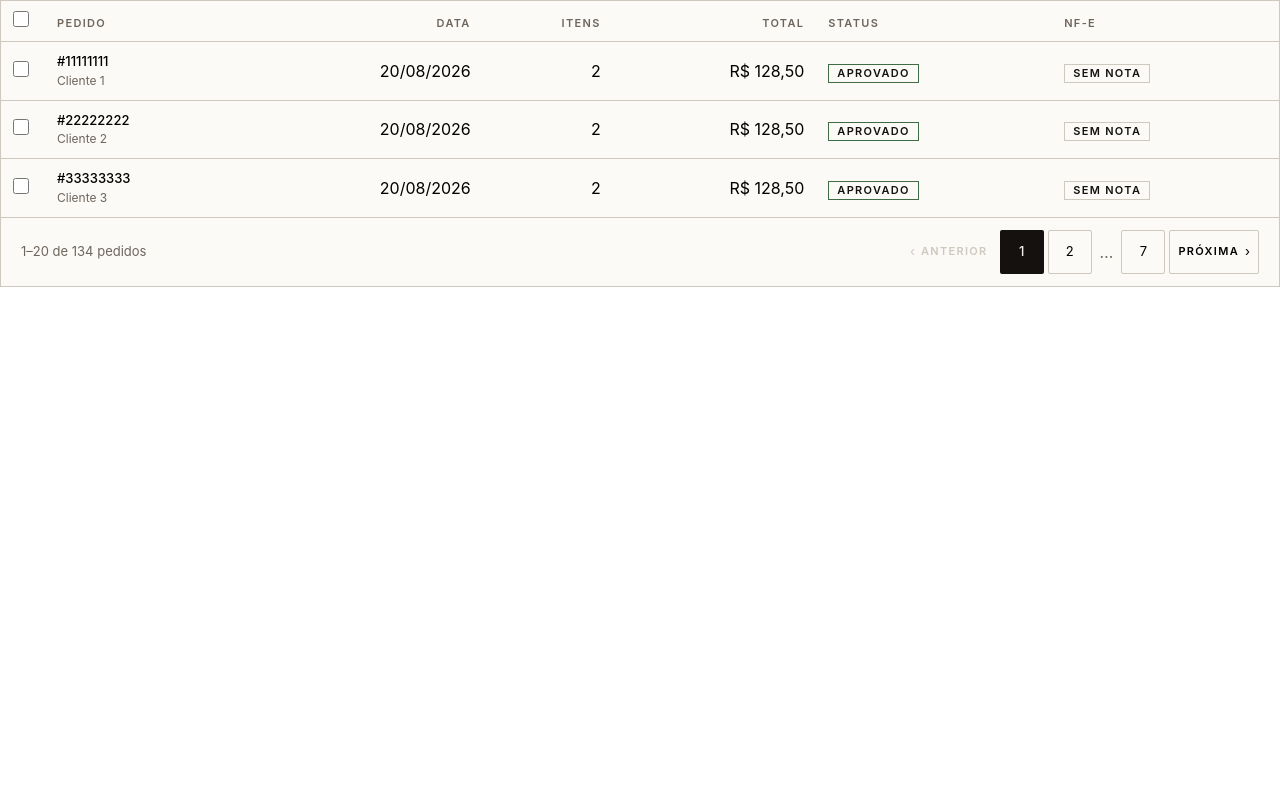
o painel lateral — R26 › anda pela fila com próximo e anterior, sem voltar à lista
This screenshot has width=1280, height=800.
Click the link "#11111111 Cliente 1" at (83, 70), box x1=57 y1=53 x2=108 y2=88
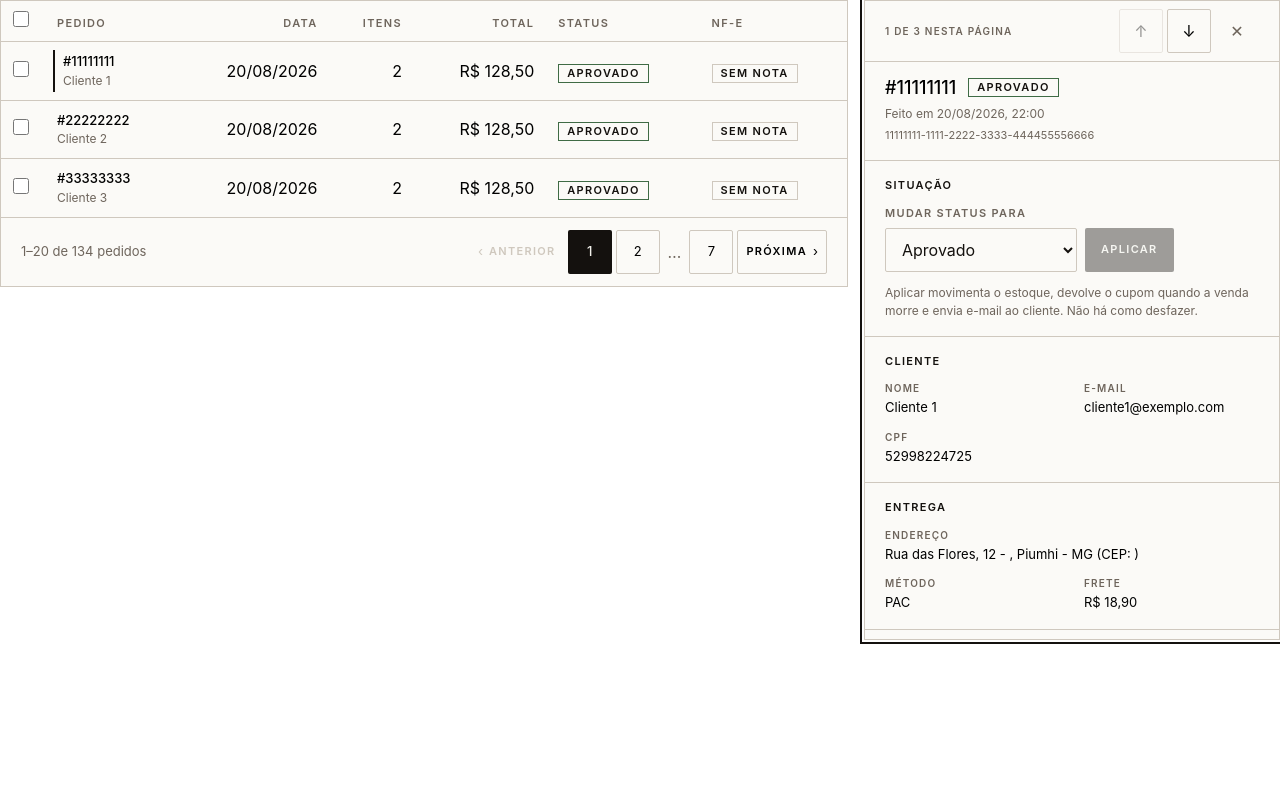
Click the button named "Próximo pedido" at (1189, 31), box x1=1167 y1=9 x2=1211 y2=53
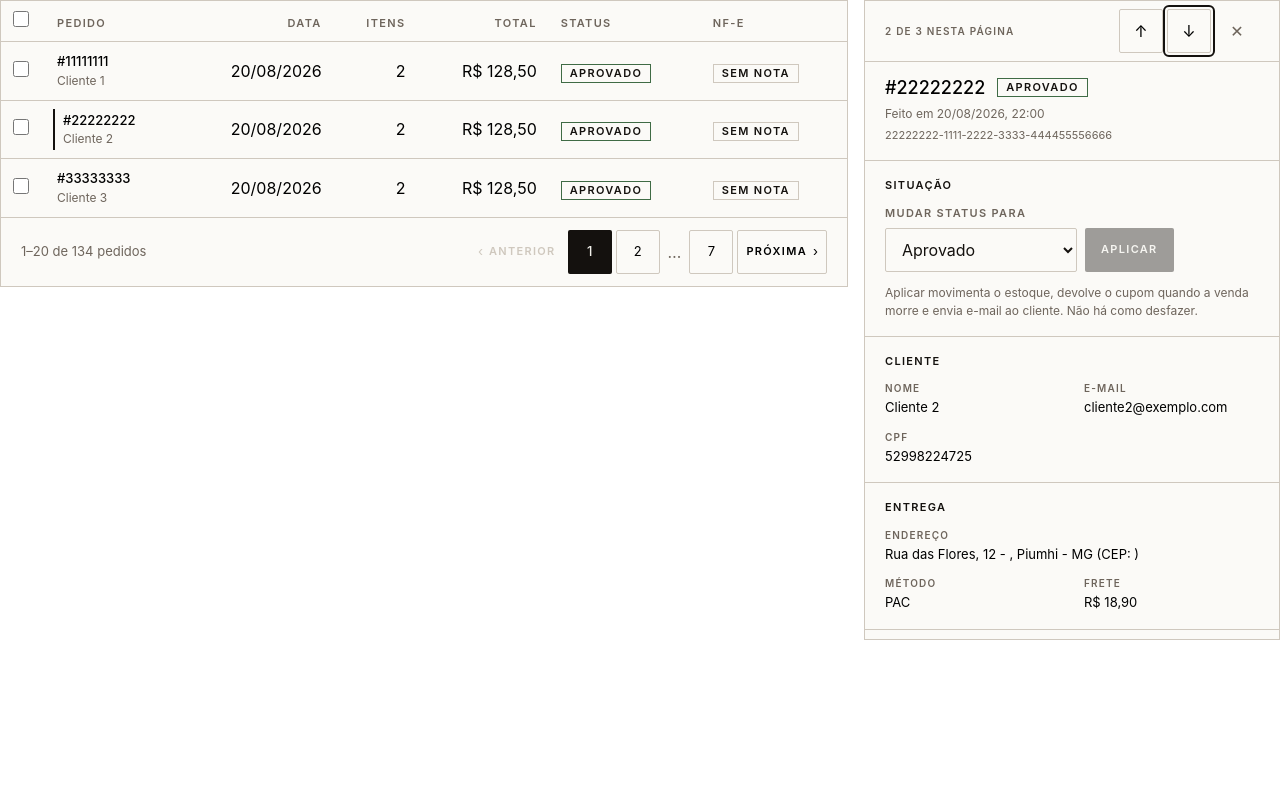
Expected: the element "2 de 3" is shown, x1=864 y1=0 x2=1279 y2=640
Click the button named "Pedido anterior" at (1141, 31), box x1=1119 y1=9 x2=1163 y2=53
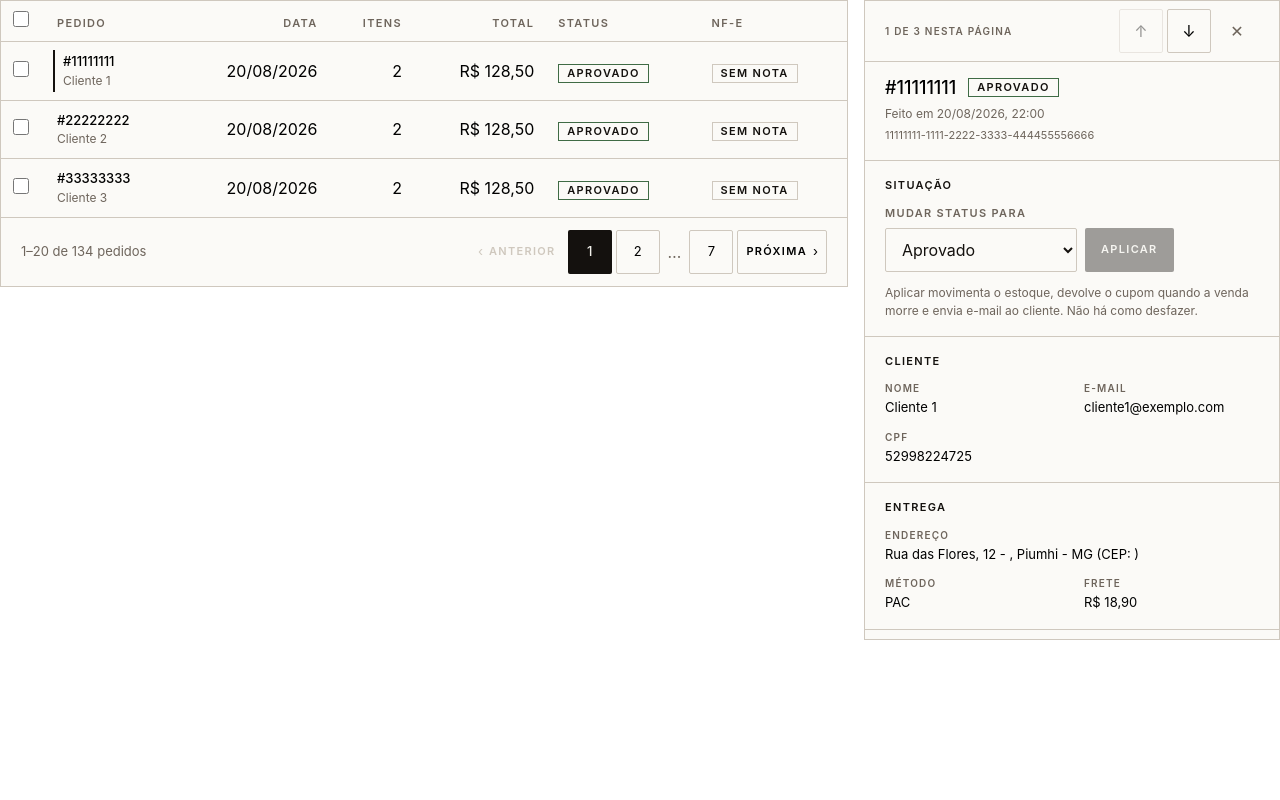
Expected: the element "1 de 3" is shown, x1=864 y1=0 x2=1279 y2=640
